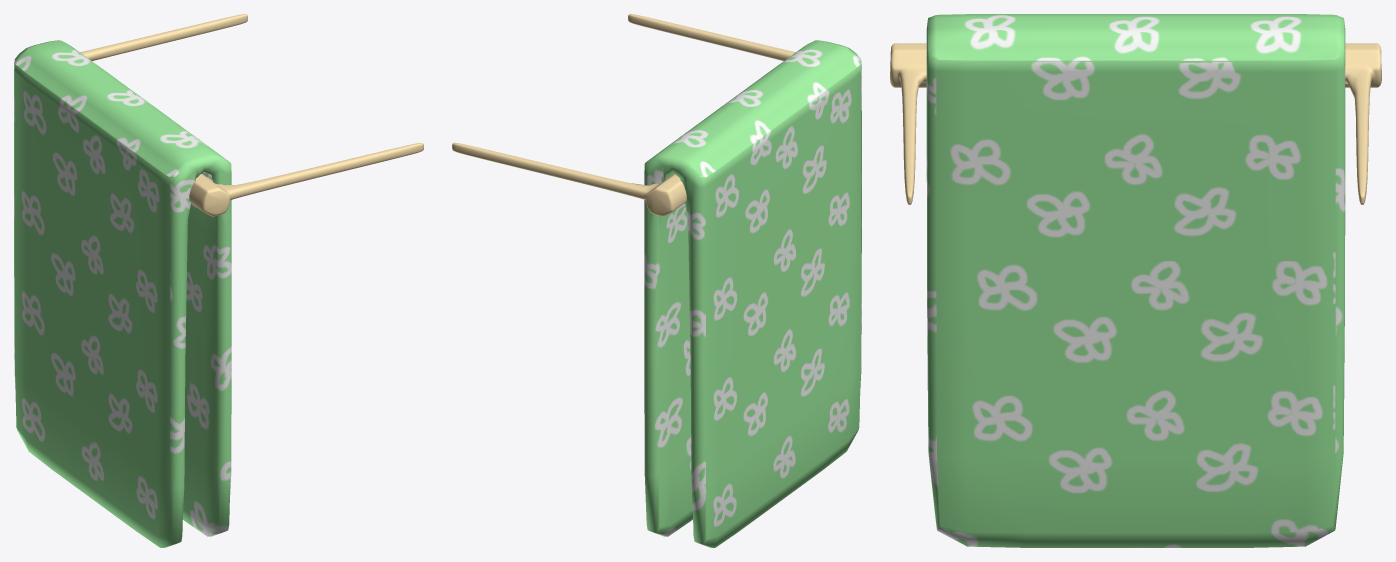
File: towel2.fbx
The picture shows the model from 3 angles, left to right: view 1: azimuth 30°, elevation 25°; view 2: azimuth 150°, elevation 25°; view 3: azimuth 270°, elevation 25°; orthographic projection. The views are drawn at different scales.
Visible parts, largest first — view 1: towel, pole; view 2: towel, pole; view 3: towel, pole.
Boxes of the visible parts, x1,y1,x2,y2 form: towel: [14, 40, 231, 547]; pole: [80, 14, 423, 216]; towel: [644, 40, 861, 547]; pole: [452, 14, 795, 216]; towel: [926, 14, 1345, 547]; pole: [890, 43, 1381, 204].
Bounding box in the file's own units: 1.17 × 1.82 × 1.59.
